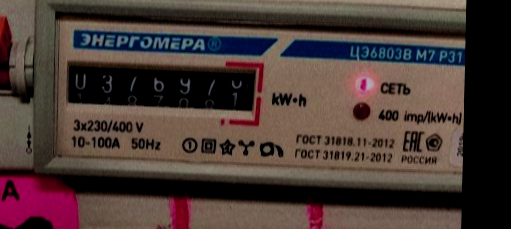0: (72, 68, 87, 90)
1: (229, 89, 240, 110)
3: (100, 72, 115, 94)
6: (151, 70, 167, 93)
7: (125, 70, 141, 94), (203, 74, 219, 97)
9: (177, 72, 192, 95)
screen: (58, 48, 268, 128)
